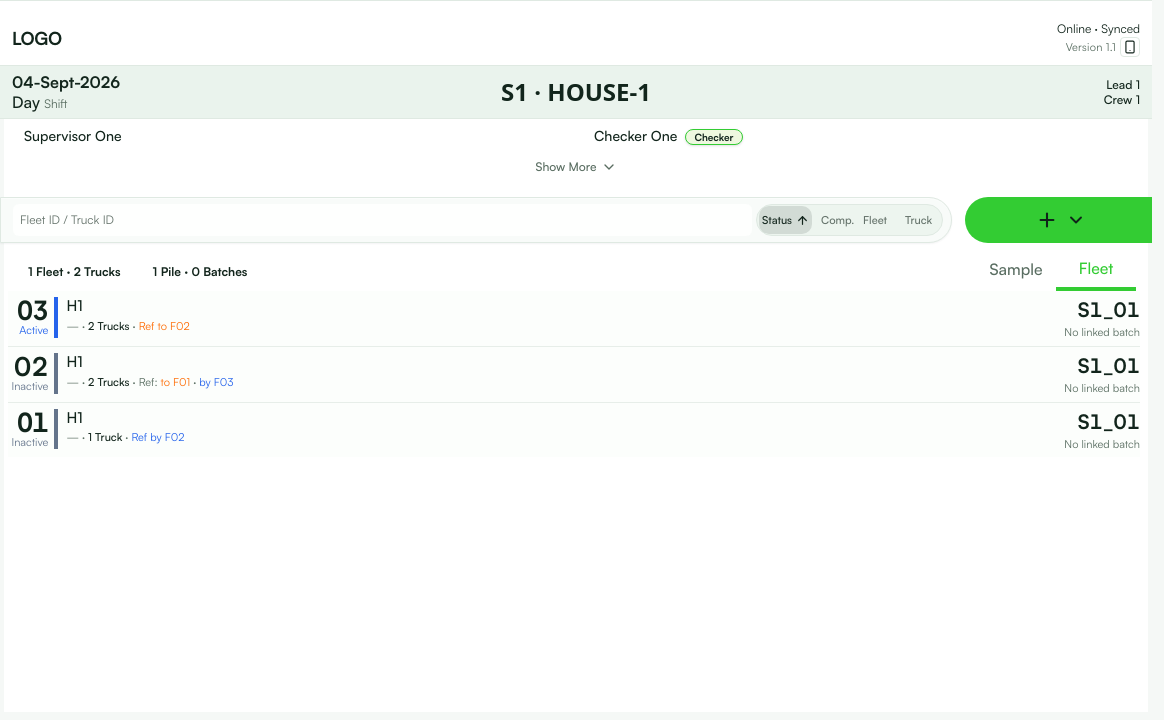
RegistrationPage active-shift Setup › uses the reactivation mini action for an inactive Fleet without expanding its row
The width and height of the screenshot is (1164, 720).
Click the button with aria-label "Fleet actions for F1". click: (33, 429)
box: [8, 409, 58, 449]
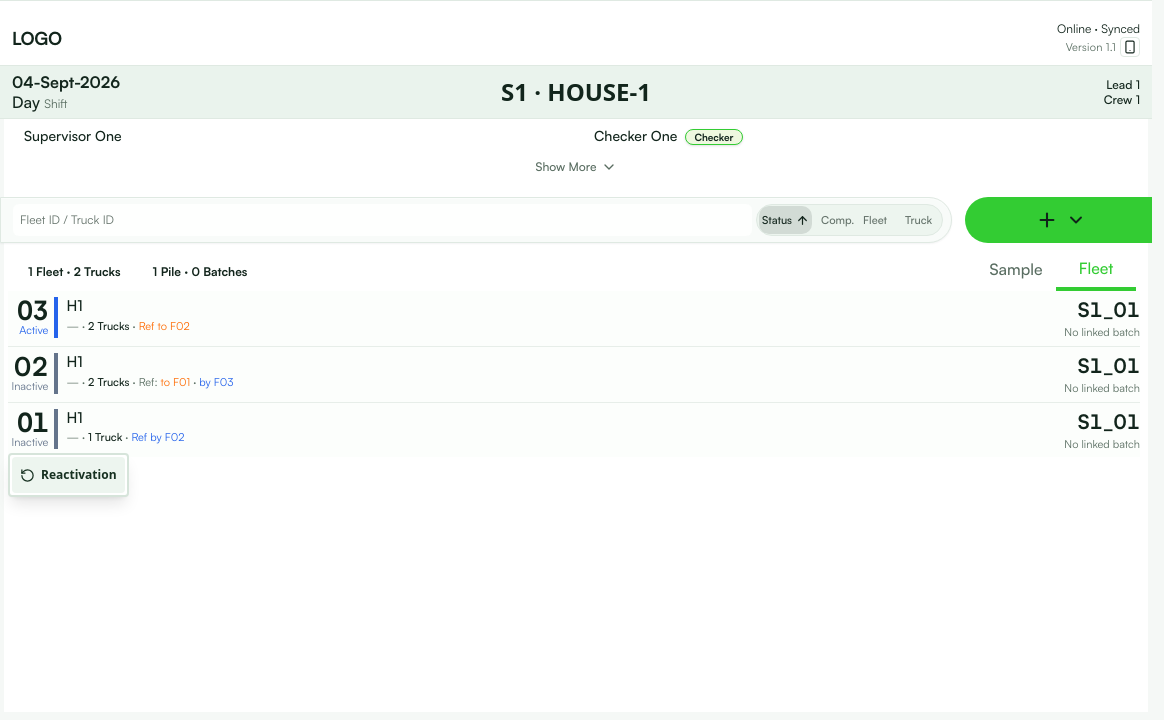
Result: the 6th icon is shown at [20, 468, 35, 483]
